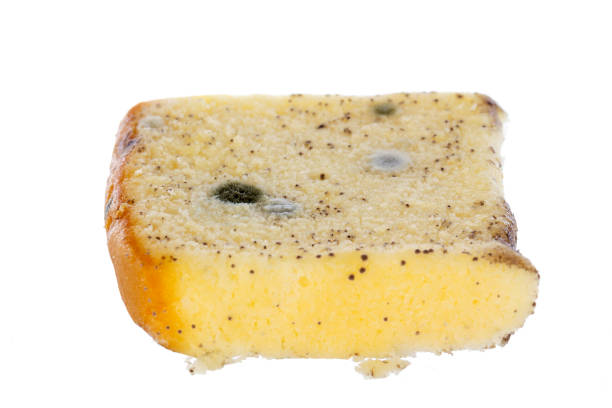mold_bread: (211, 181, 298, 221), (365, 147, 412, 175), (136, 114, 164, 132), (372, 102, 400, 118), (103, 192, 115, 222)
